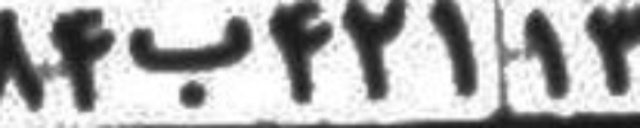1: (425, 0, 478, 95), (519, 8, 571, 98)
2: (339, 0, 413, 100)
3: (586, 0, 639, 98)
4: (48, 7, 115, 112), (267, 0, 335, 103)
8: (0, 6, 44, 111)
be: (125, 13, 254, 108)
